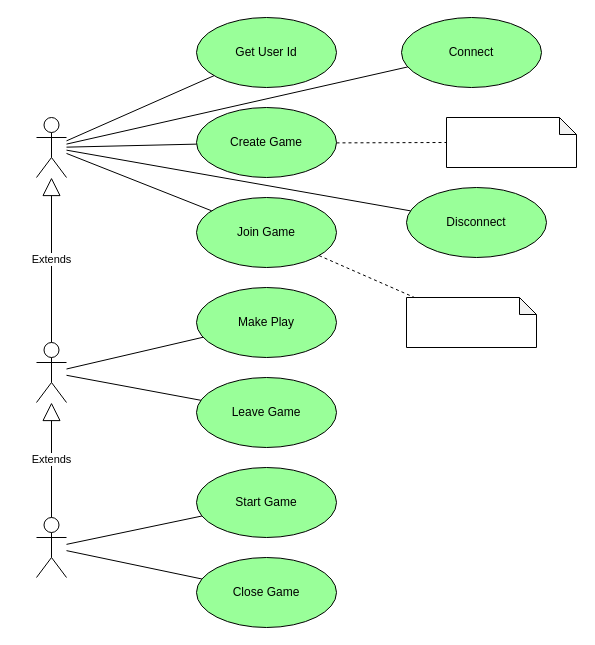
The diagram is 595 pixels wide and 645 high, and some of its shapes have lost their labels. Here are the shapes that lost their labels. From the top down, the centre of each, then its label:
At point (51, 147): "User".
At point (511, 142): "Creating a game converts a User to a Game Admin.".
At point (471, 322): "Joining a game converts a User to a Player.".
At point (51, 372): "Player".
At point (51, 547): "Game Admin".
